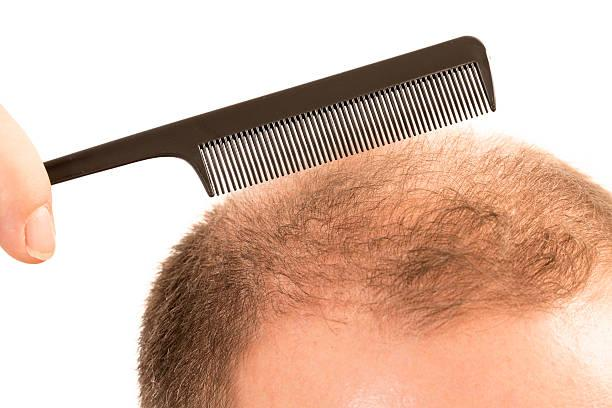low hair density: (265, 191, 518, 299)
